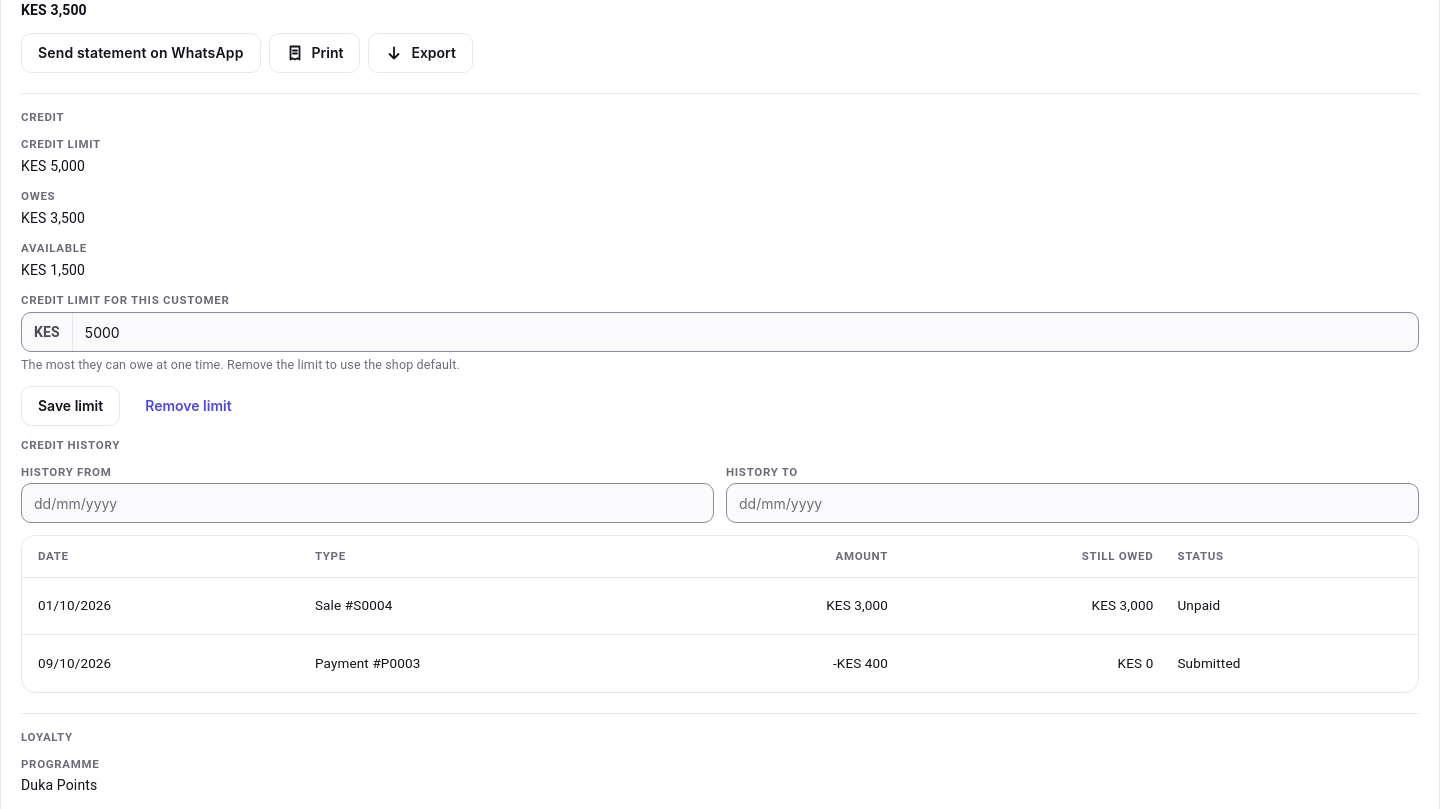
Test case: the Credit section (open question 15) › removing the limit asks first and names what will happen
(page scrolled)
Click the button "Remove limit": {"x": 188, "y": 406} x1=128 y1=386 x2=249 y2=426
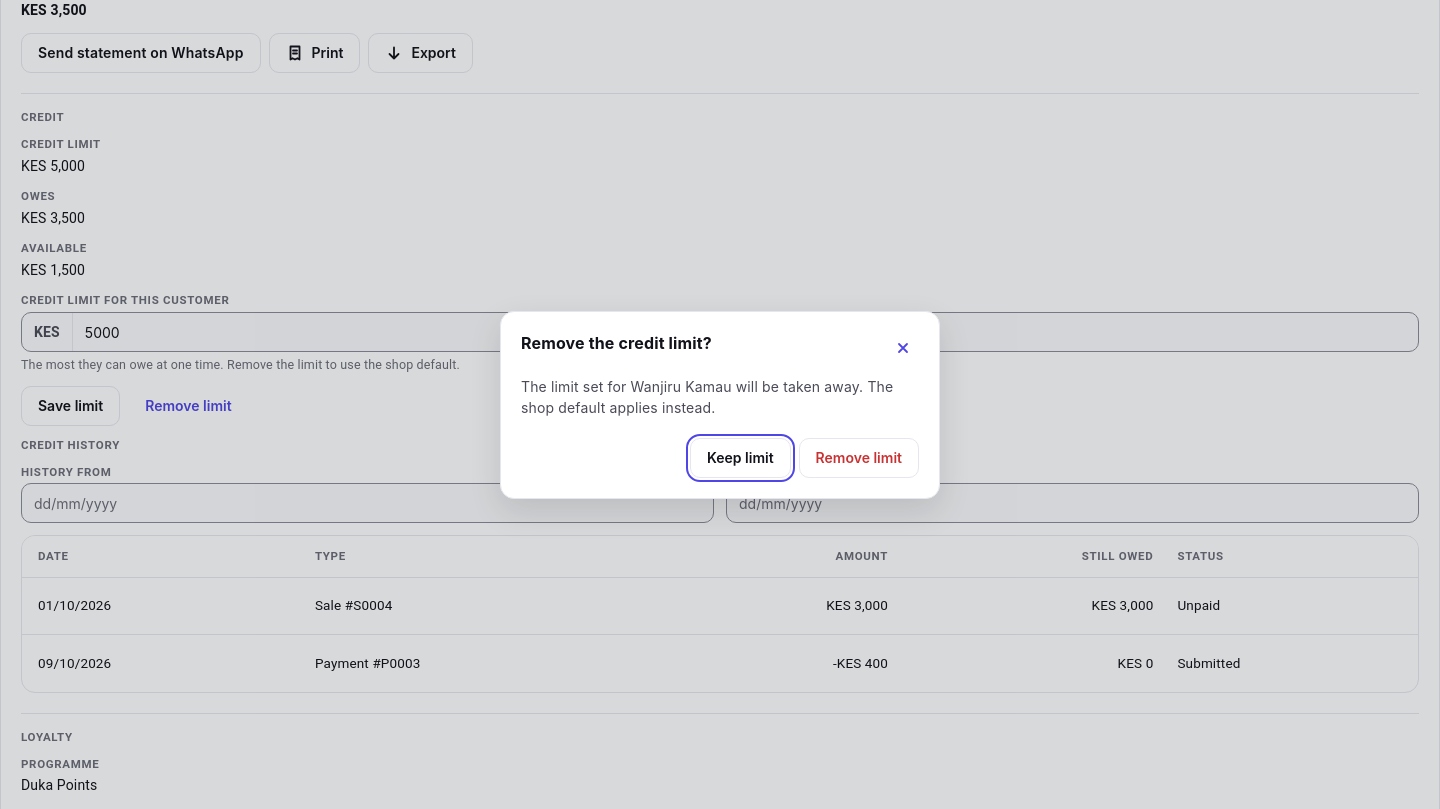
Expected: the text "The shop default applies instead" is shown, x1=521 y1=378 x2=893 y2=416
Click the button "Remove limit": {"x": 859, "y": 458} x1=799 y1=438 x2=919 y2=478
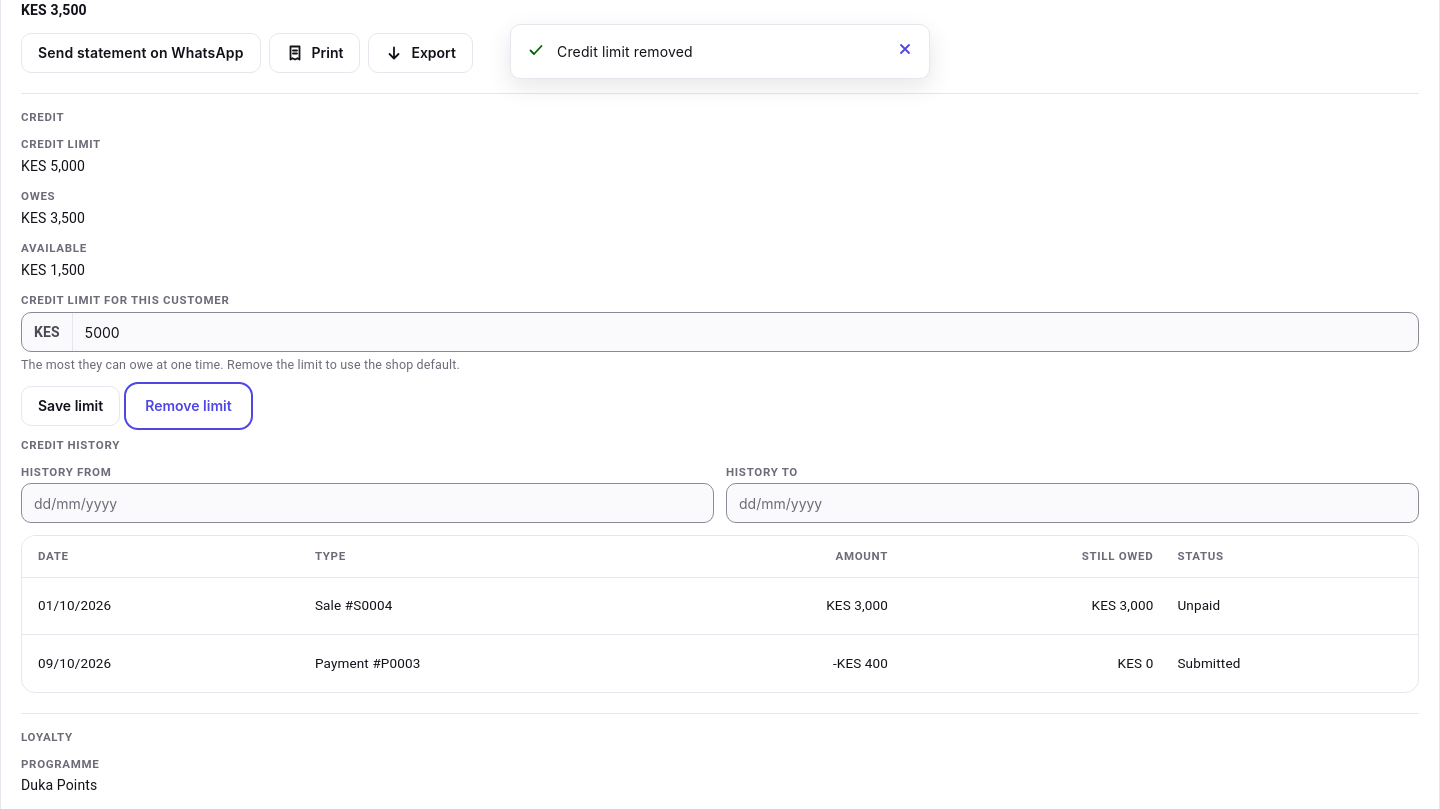
Expected: the text "Credit limit removed" is shown, x1=557 y1=43 x2=693 y2=60
